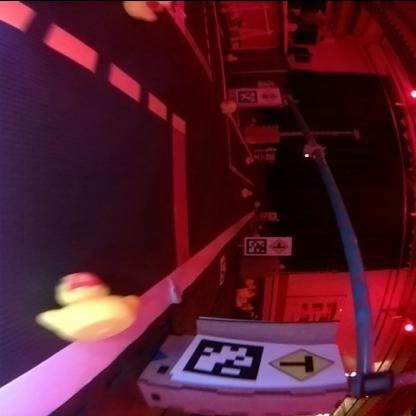Duckie: (37, 271, 140, 338), (123, 1, 173, 21), (221, 100, 235, 112), (242, 186, 254, 196), (247, 156, 254, 161)
Intersection sign: (268, 346, 336, 381), (270, 237, 290, 252)
QR code: (184, 338, 264, 380), (247, 237, 267, 252), (239, 88, 258, 100), (220, 256, 228, 284)
Signal sign: (263, 90, 280, 102)
